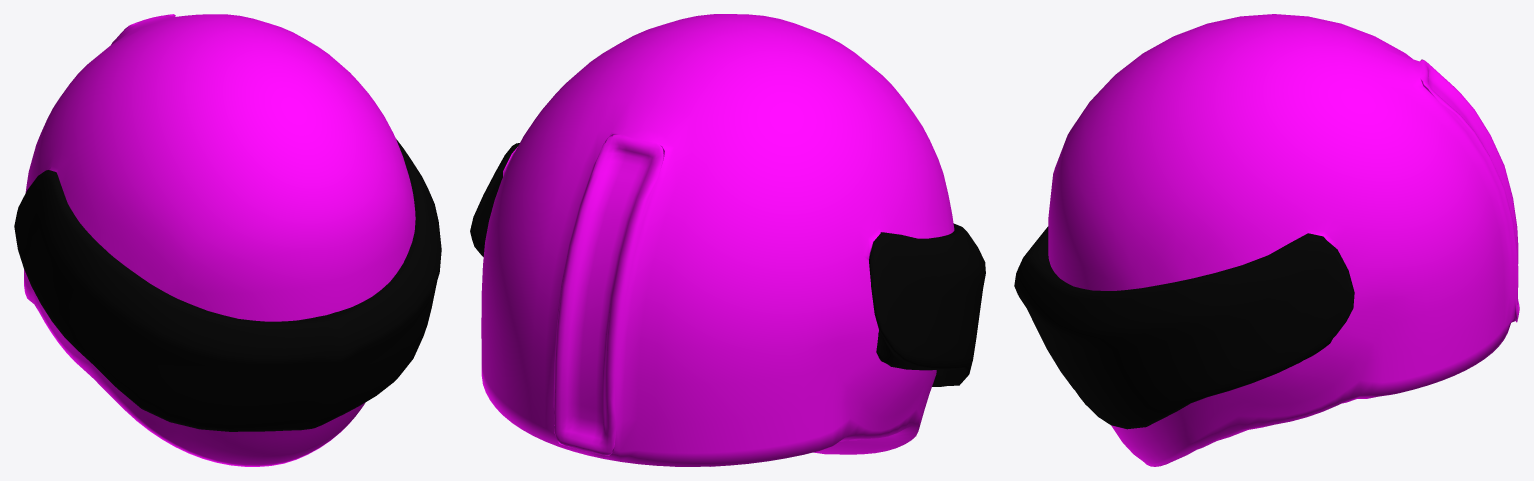
Rendered from casque_export.fbx.
3 views of the same model, side by side, from view 1: azimuth 30°, elevation 25°; view 2: azimuth 150°, elevation 25°; view 3: azimuth 270°, elevation 25° (orthographic). The views are drawn at different scales.
Visible parts, largest first — view 1: pSphere1; view 2: pSphere1; view 3: pSphere1.
Boxes of the visible parts, bbox=[...] form: pSphere1: bbox=[14, 14, 441, 466]; pSphere1: bbox=[470, 14, 985, 466]; pSphere1: bbox=[1014, 14, 1519, 466].
Bounding box in the file's own units: 4.95 × 5.04 × 5.56.
